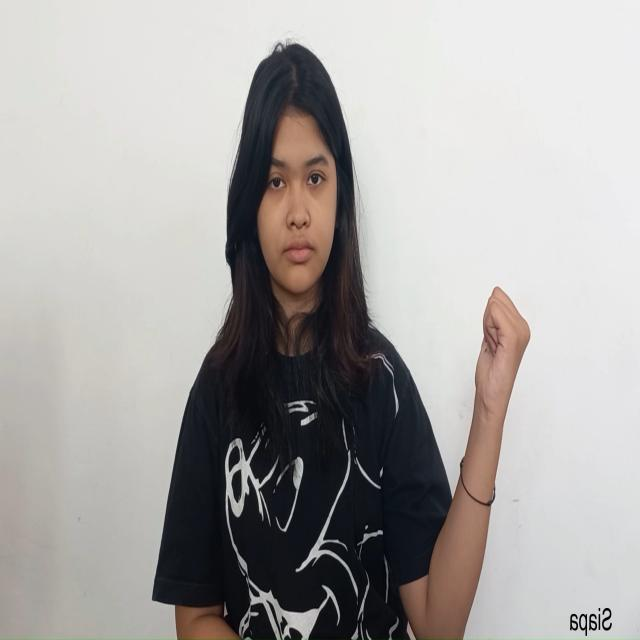Siapa -BISINDO-: (468, 281, 535, 452)
